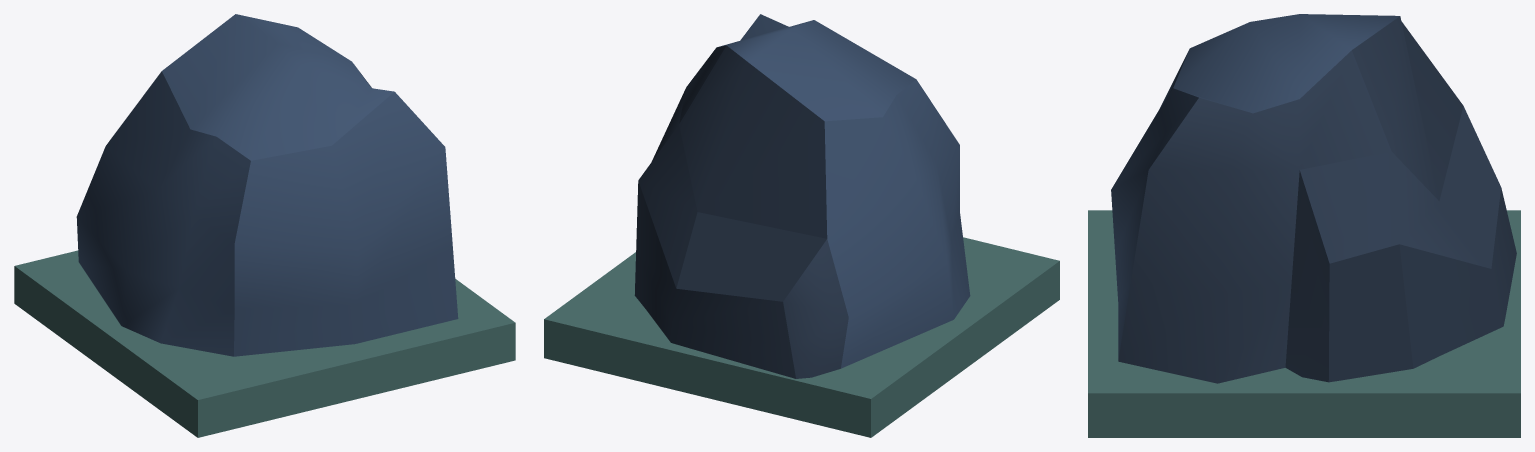
File: ASSET_ENV_rocher.fbx
3 views of the same model, side by side, from view 1: azimuth 30°, elevation 25°; view 2: azimuth 150°, elevation 25°; view 3: azimuth 270°, elevation 25° (orthographic). The views are drawn at different scales.
Visible parts, largest first — view 1: ROCHER; view 2: ROCHER; view 3: ROCHER.
Boxes of the visible parts, x1=… form: ROCHER: x1=14, y1=14, x2=515, y2=437; ROCHER: x1=544, y1=14, x2=1059, y2=437; ROCHER: x1=1088, y1=14, x2=1520, y2=437.
Bounding box in the file's own units: 1 × 0.8642 × 1.
